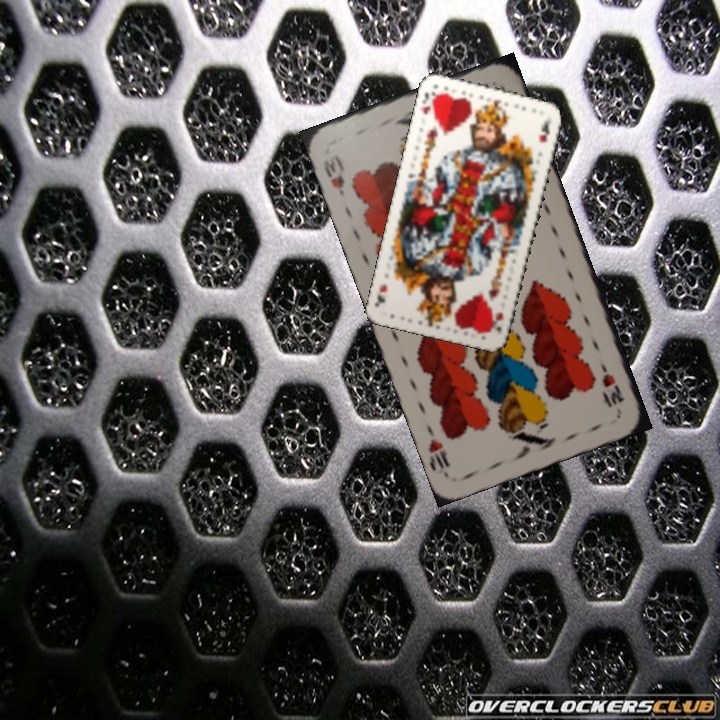H10: (596, 359, 627, 409), (320, 150, 348, 200)
HK: (417, 87, 440, 118), (487, 308, 506, 335)
